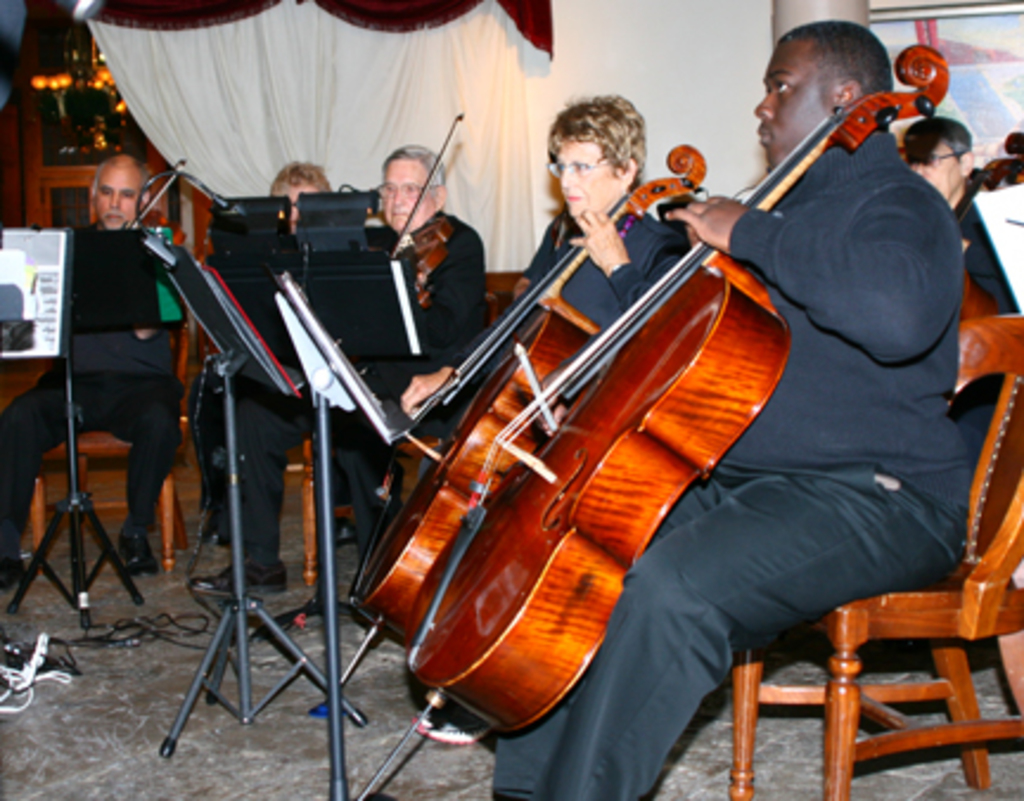Person: (0, 21, 1016, 800)
